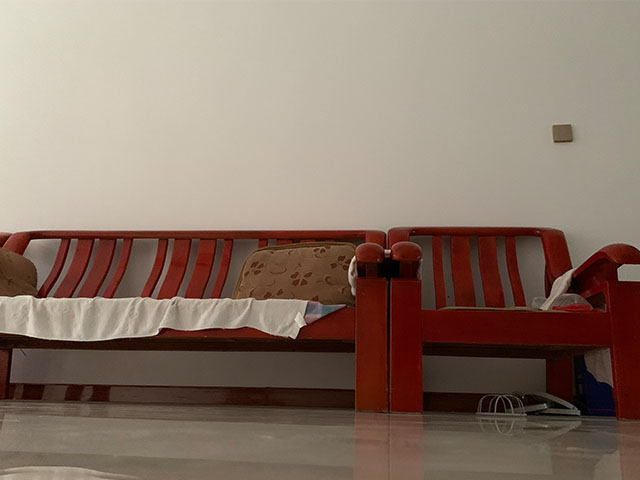sofa: (1, 224, 388, 421), (386, 215, 636, 412)
